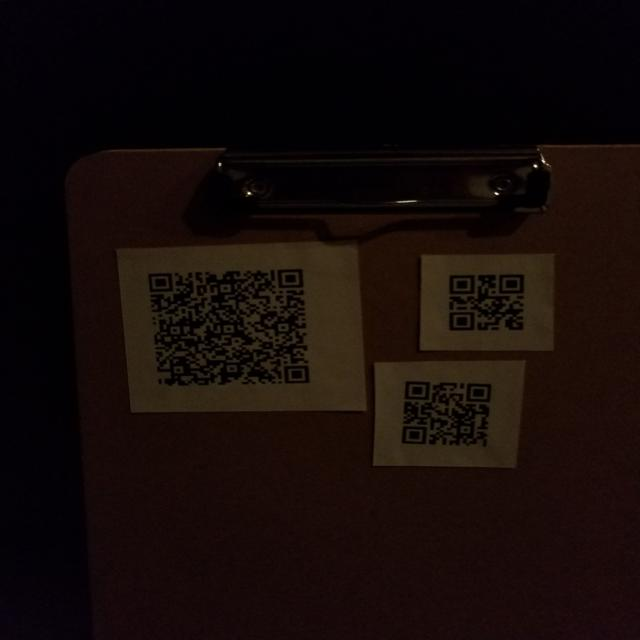QR_CODE: (133, 254, 320, 392), (390, 375, 504, 457), (433, 259, 539, 342)
